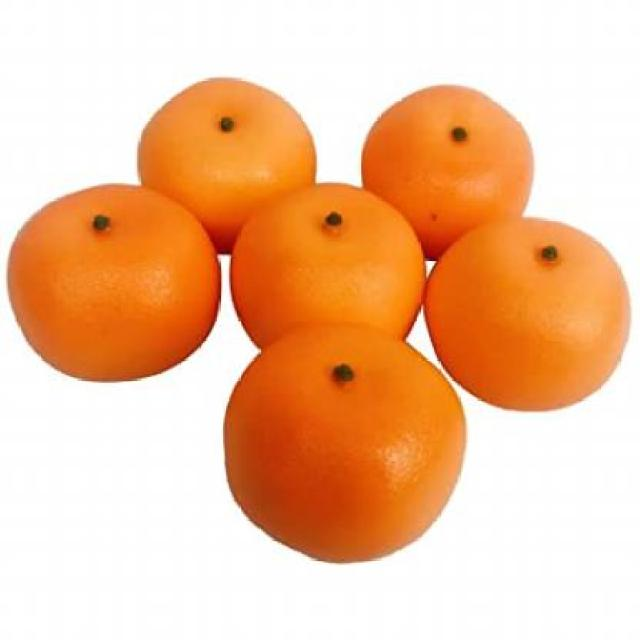Orange: (222, 319, 466, 563), (5, 182, 220, 382), (423, 215, 631, 411), (228, 180, 424, 349), (135, 75, 317, 252), (358, 82, 534, 258)
